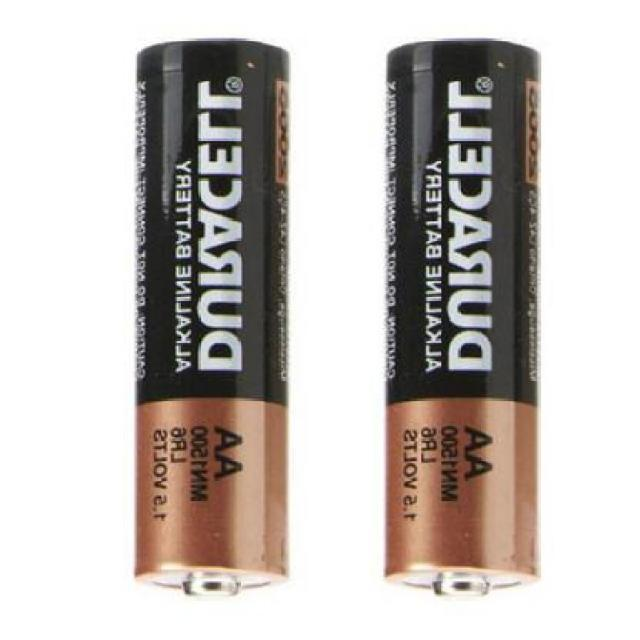AA: (130, 32, 296, 605), (380, 34, 548, 600)
